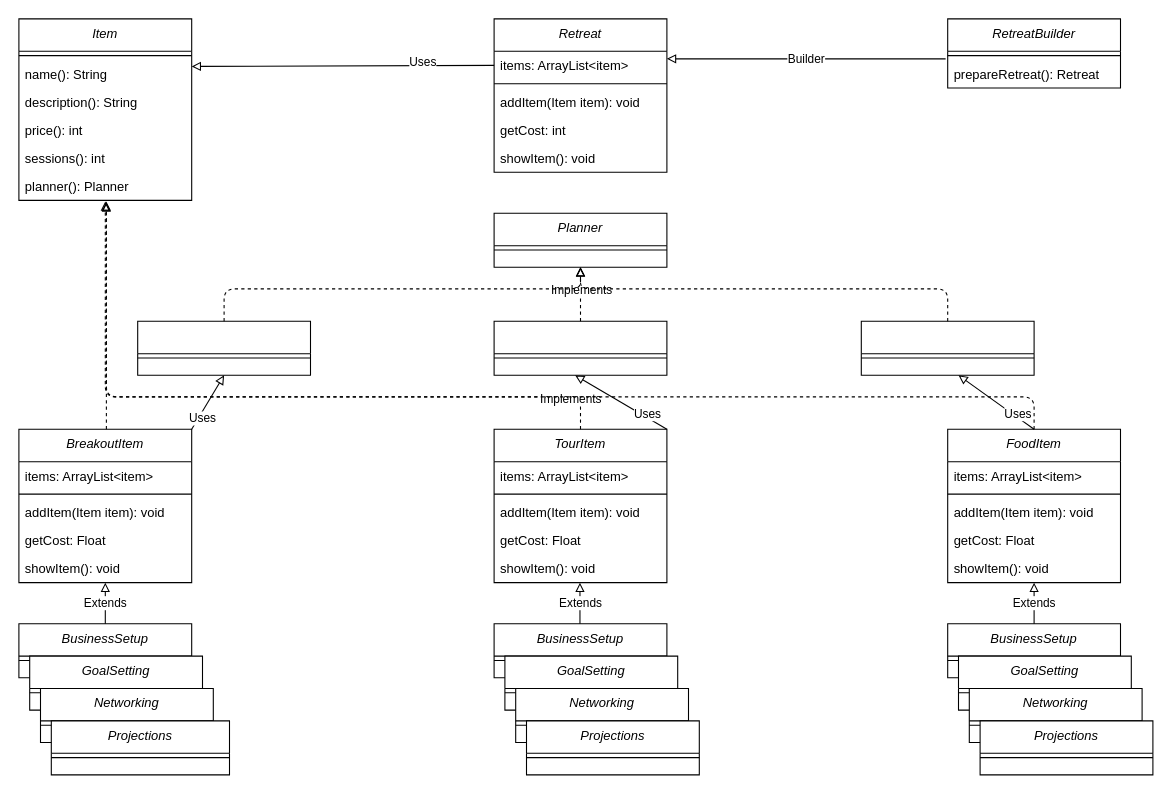
This 1172x794 diagram has some shape labels left out. The centre of each missing label's shape, as x and y in pixels:
DevelopmentType: the point at 223,347
EntertainmentType: the point at 580,347
FoodType: the point at 947,347
